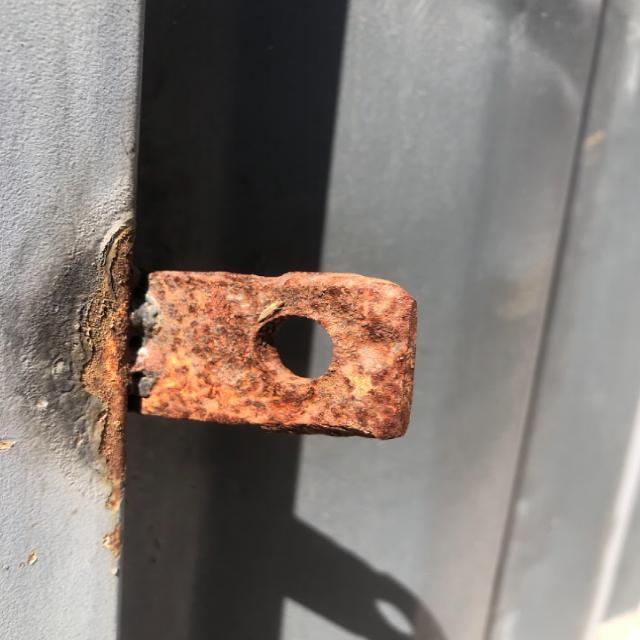Corrosion: (129, 268, 415, 442), (65, 217, 138, 510), (97, 523, 126, 564), (0, 436, 16, 452)
